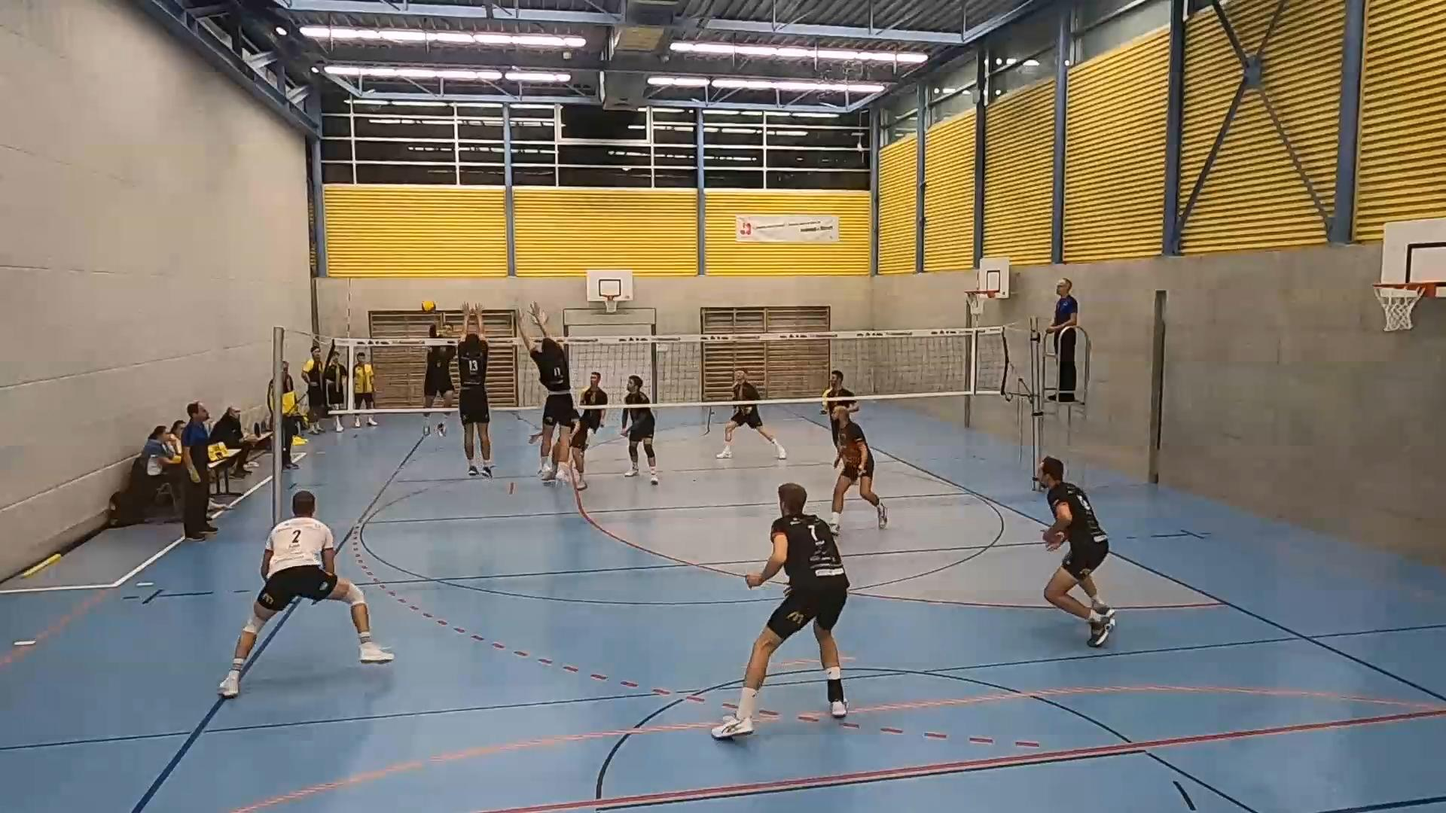attacco: (412, 300, 456, 444)
muro: (515, 319, 588, 478), (455, 307, 500, 479)
